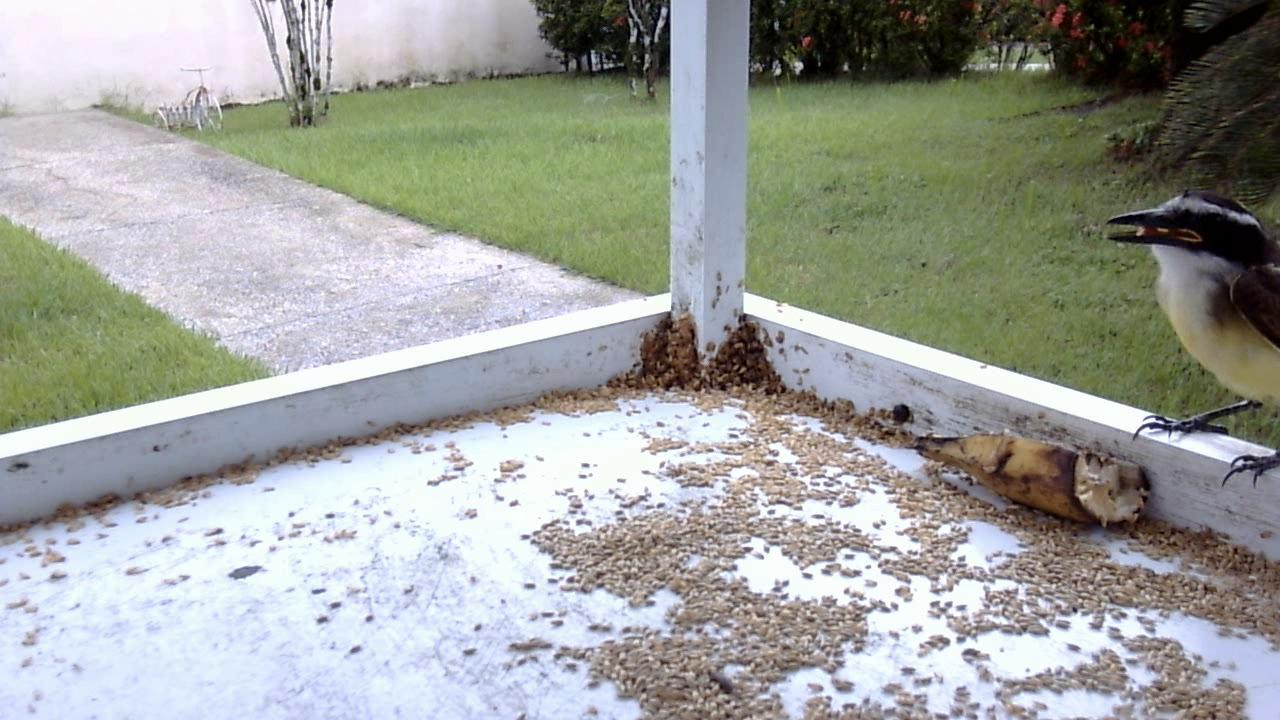bem_te_vi: (1093, 181, 1278, 494)
